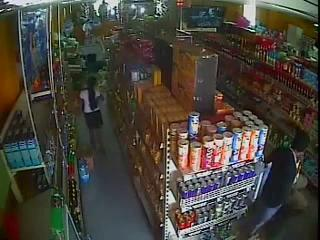Normal: (79, 76, 106, 156)
